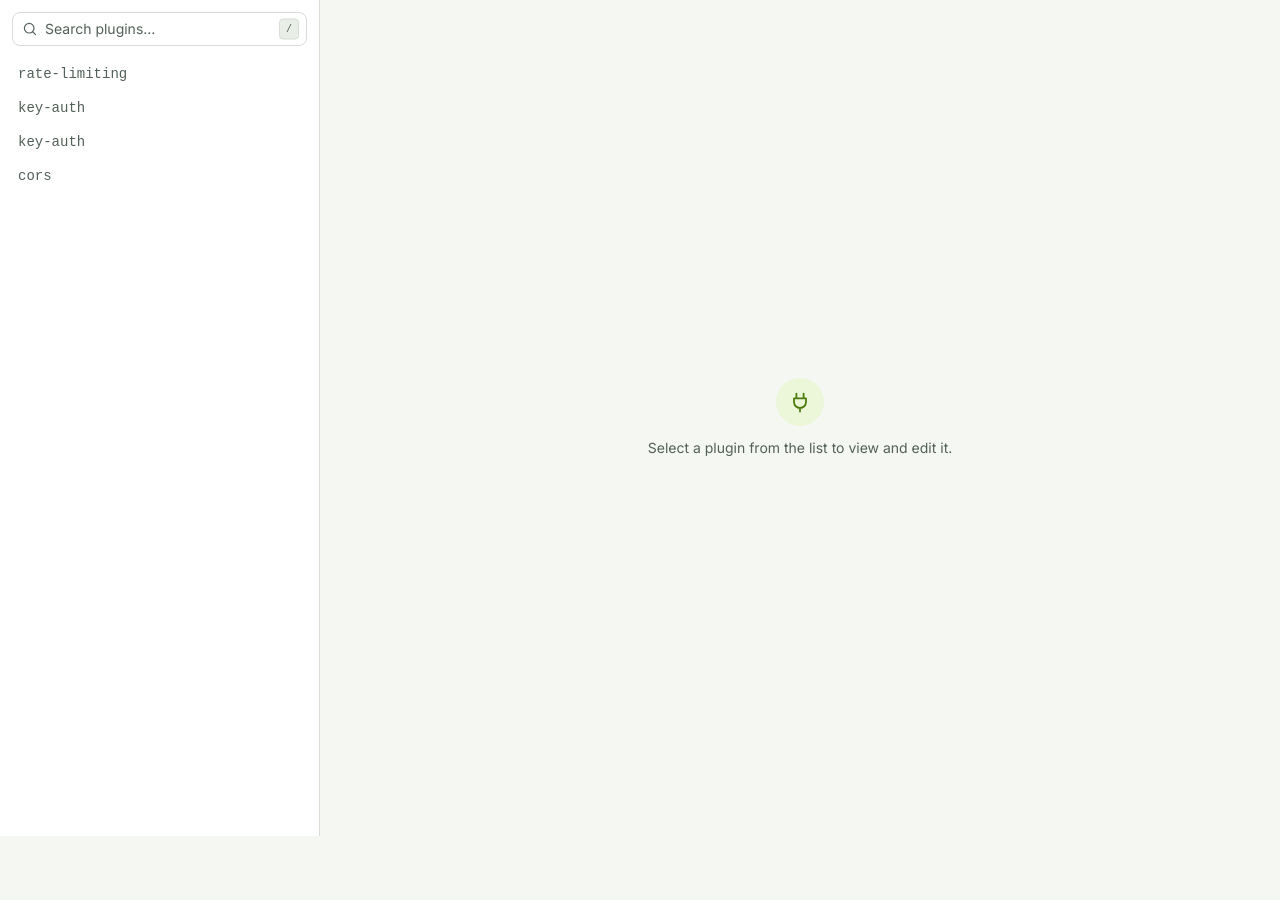
Test case: FilePluginsView › with a file loaded › says a plugin without a scope applies globally
The image size is (1280, 900).
Click the list item with test id "file-row": (73, 74) [18, 66, 127, 82]
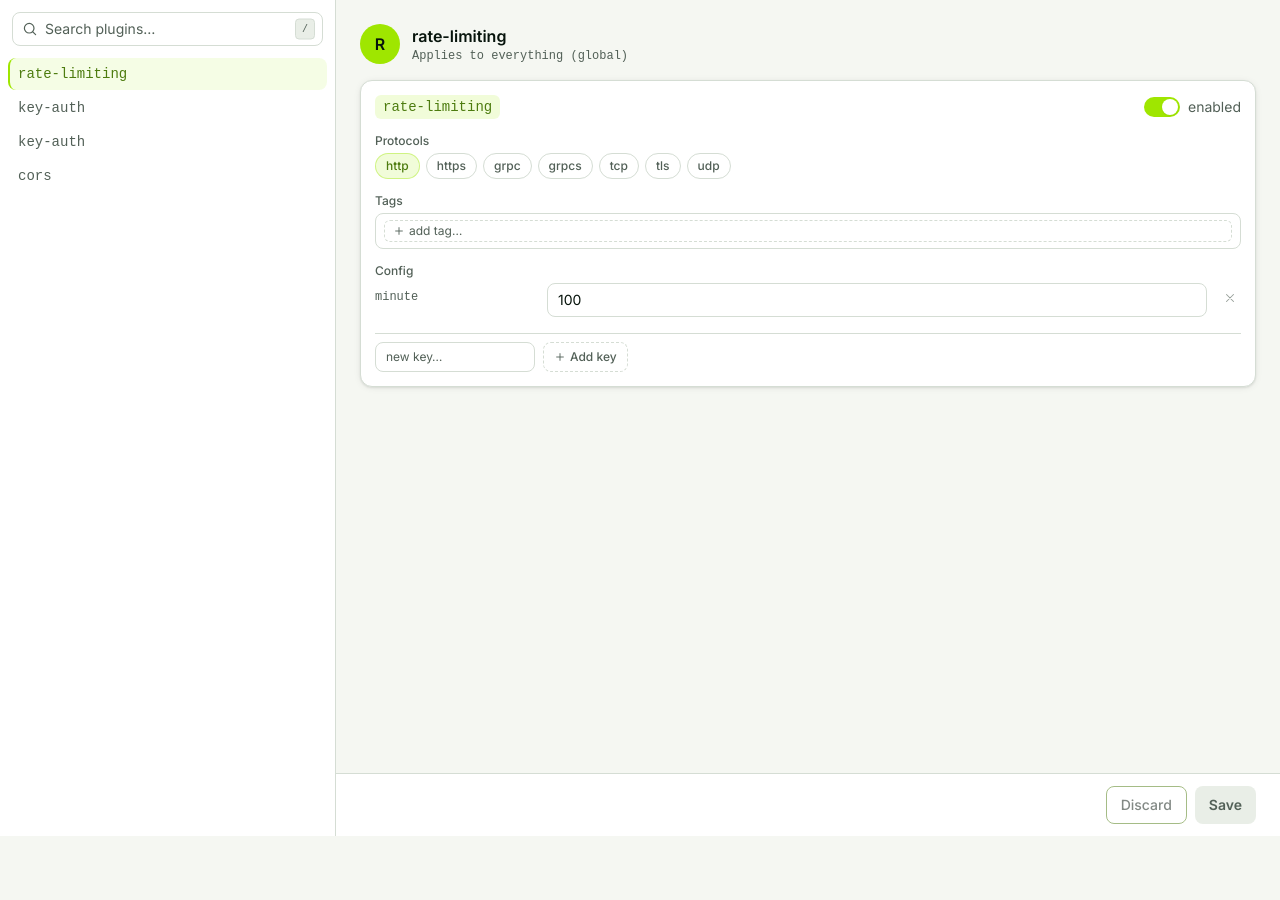
expect the text "Applies to everything (global)" is shown: met, box [412, 48, 628, 64]
